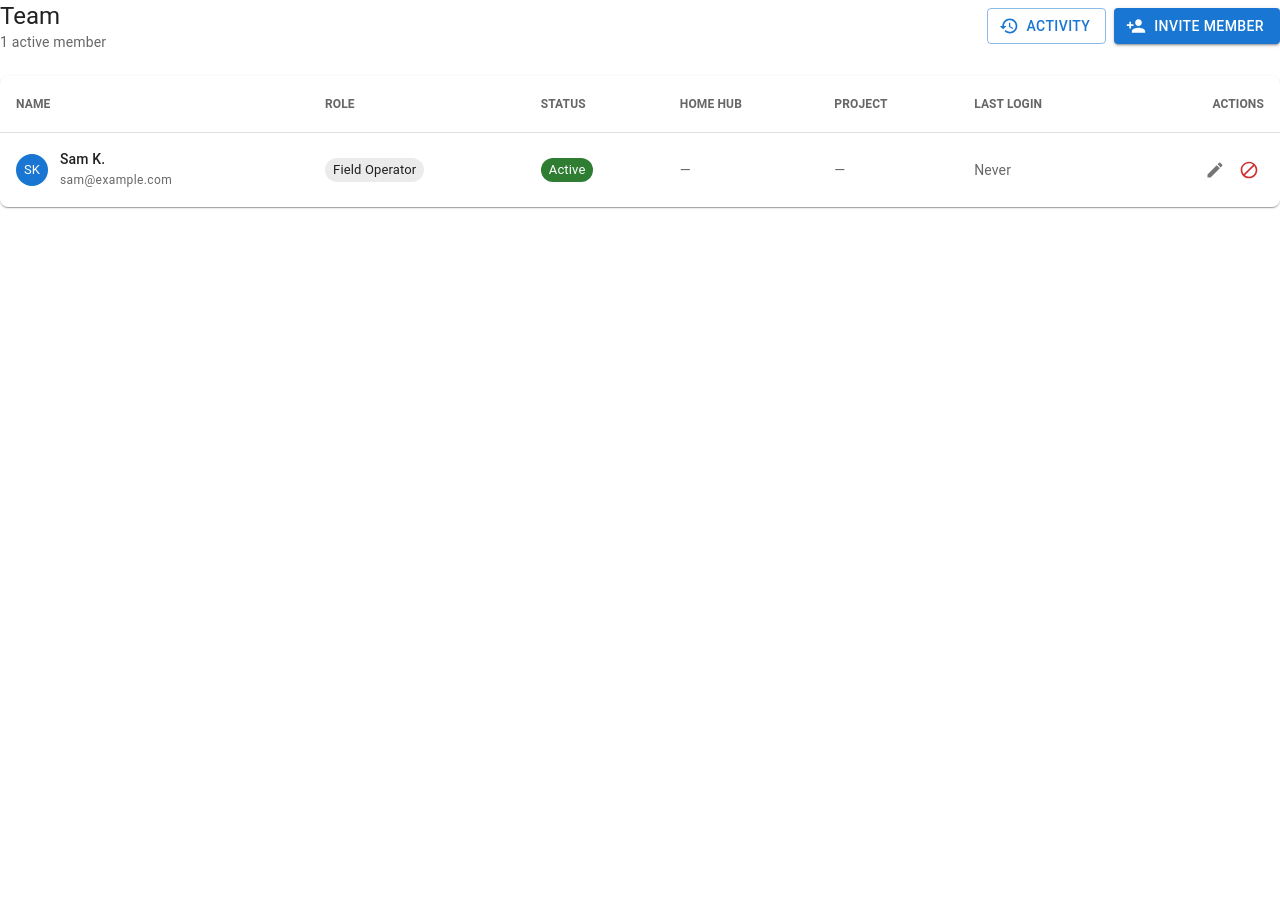
Test case: UXP-6 (6c): Invite team member on EntityFormDialog › a blank required field is an inline error, no request
expect the text "Sam K." is shown: met, box [60,151,105,167]
Click the button "Invite Member".
click(1197, 26)  # box [1114,8,1279,44]
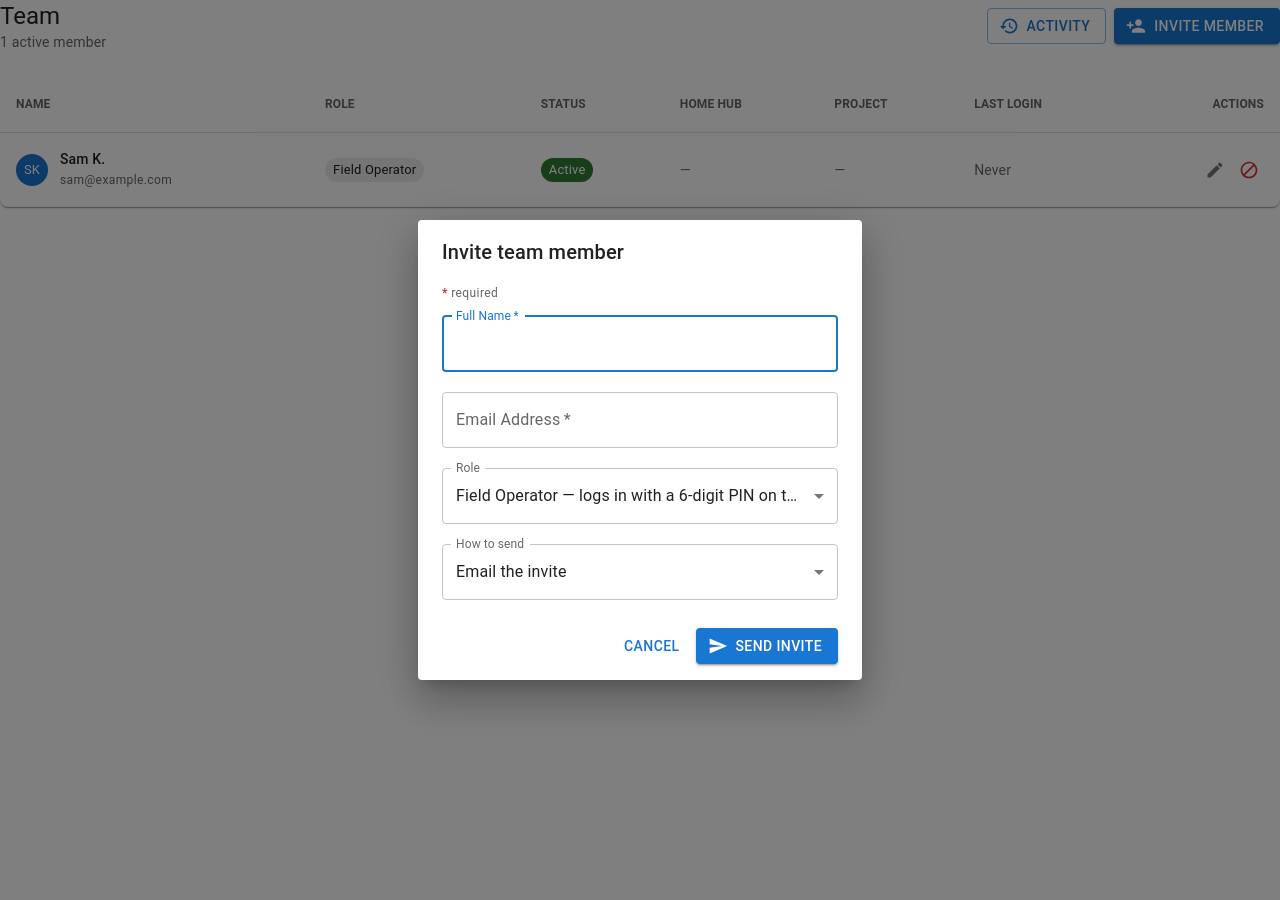
Type "Dana R." into the field labelled "Full Name *".
click(640, 344); type("Dana R.")  # box [442,316,838,372]
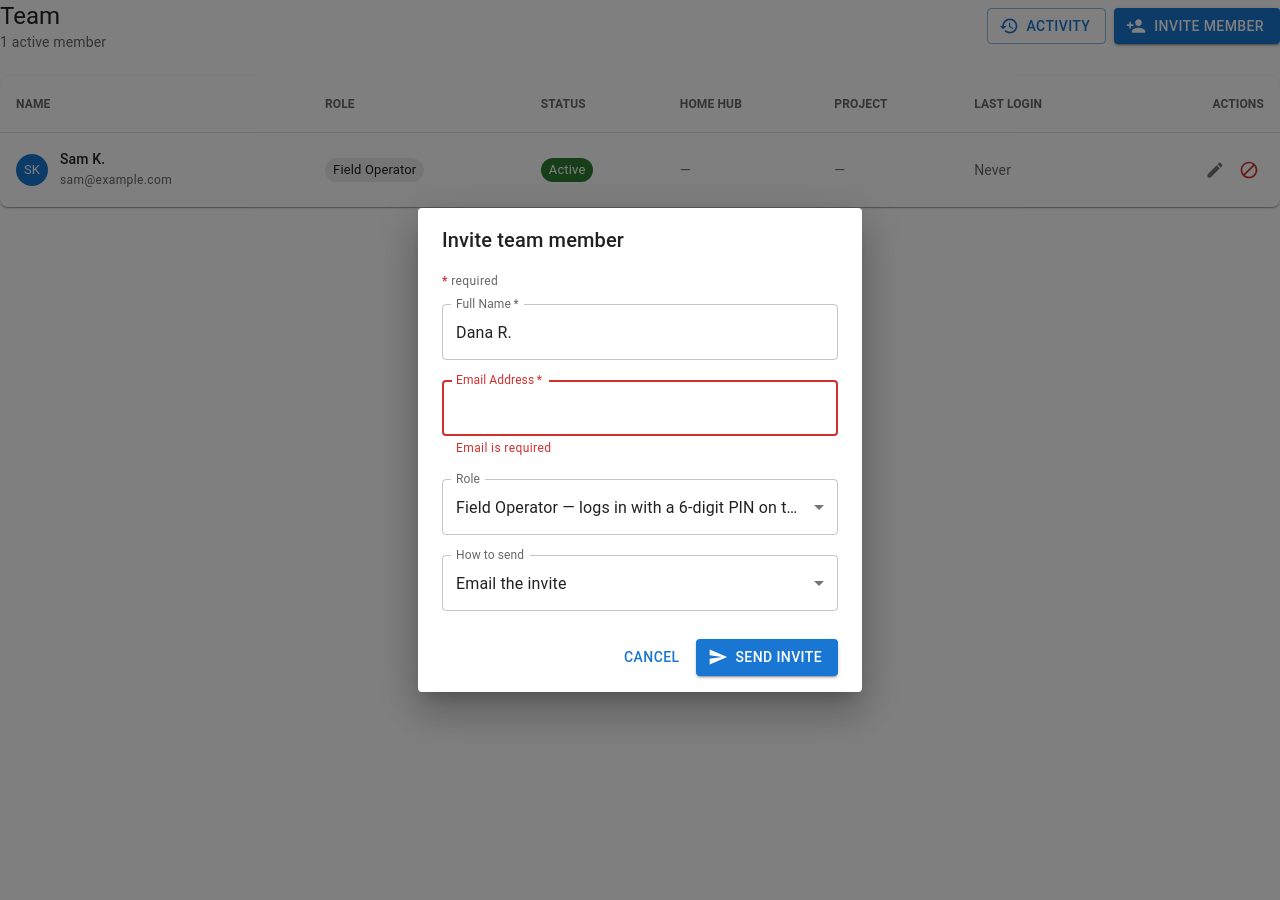
expect the text "Email is required" is shown: met, box [456,441,551,455]
